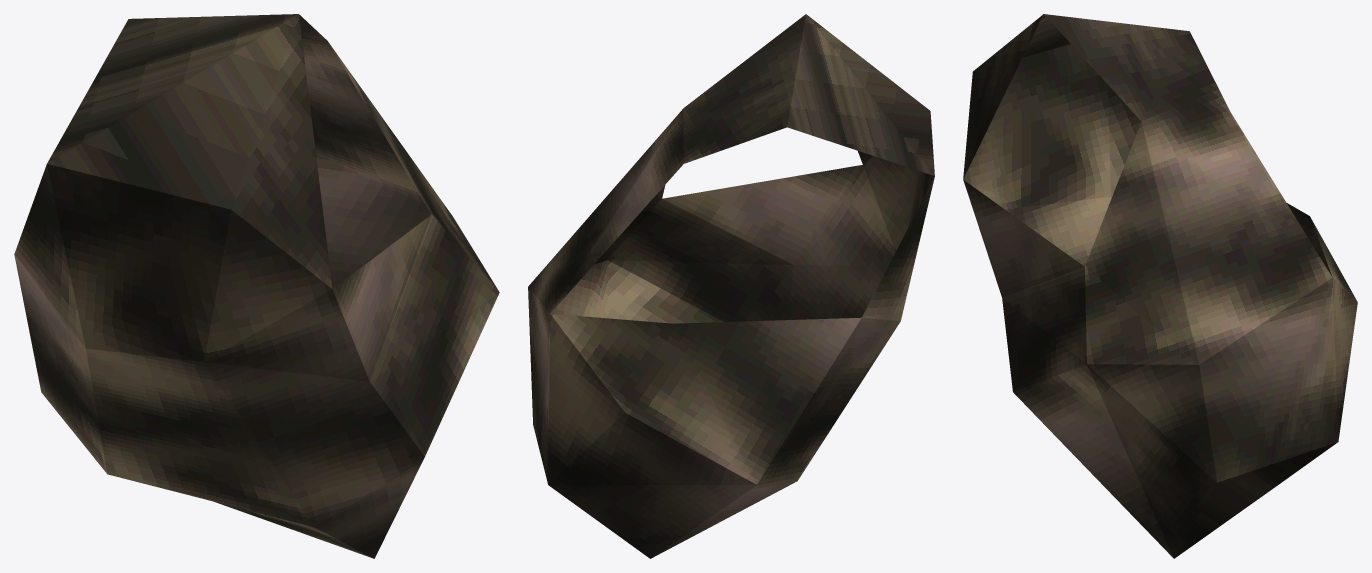
File: soft_asteroid.fbx
The picture shows the model from 3 angles, left to right: view 1: azimuth 30°, elevation 25°; view 2: azimuth 150°, elevation 25°; view 3: azimuth 270°, elevation 25°; orthographic projection. The views are drawn at different scales.
Parts seen in each view (by area): view 1: soft_asteroid; view 2: soft_asteroid; view 3: soft_asteroid.
Boxes of the visible parts, box(x1,y1,x2,y2) form: soft_asteroid: box(14, 14, 499, 558); soft_asteroid: box(528, 14, 934, 558); soft_asteroid: box(963, 14, 1357, 558).
Bounding box in the file's own units: 17549 × 23215 × 17103.
Materials: 1 (1 with a texture image).
